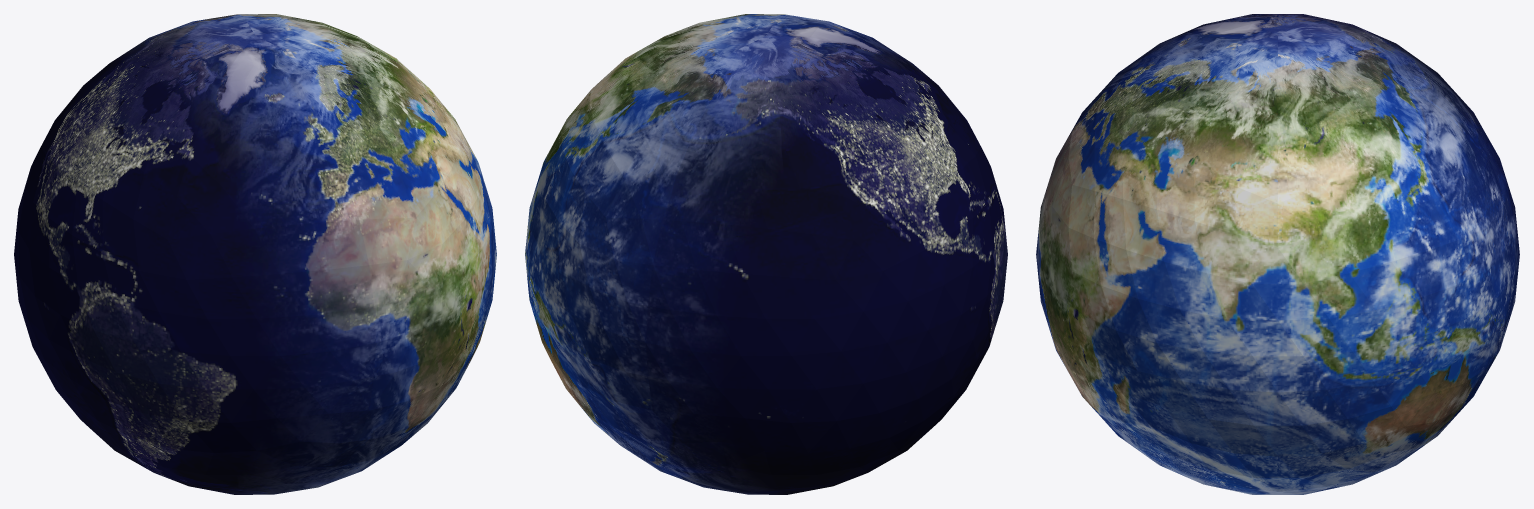
File: RealEarth.FBX
3 views of the same model, side by side, from view 1: azimuth 30°, elevation 25°; view 2: azimuth 150°, elevation 25°; view 3: azimuth 270°, elevation 25° (orthographic).
Parts seen in each view (by area): view 1: GeoSphere003; view 2: GeoSphere003; view 3: GeoSphere003.
Boxes of the visible parts, x1=… form: GeoSphere003: x1=14, y1=14, x2=496, y2=494; GeoSphere003: x1=525, y1=14, x2=1007, y2=494; GeoSphere003: x1=1036, y1=14, x2=1519, y2=494.
Size of the model in its own units: 83.54 by 84 by 84.
Materials: 1 (1 with a texture image).
